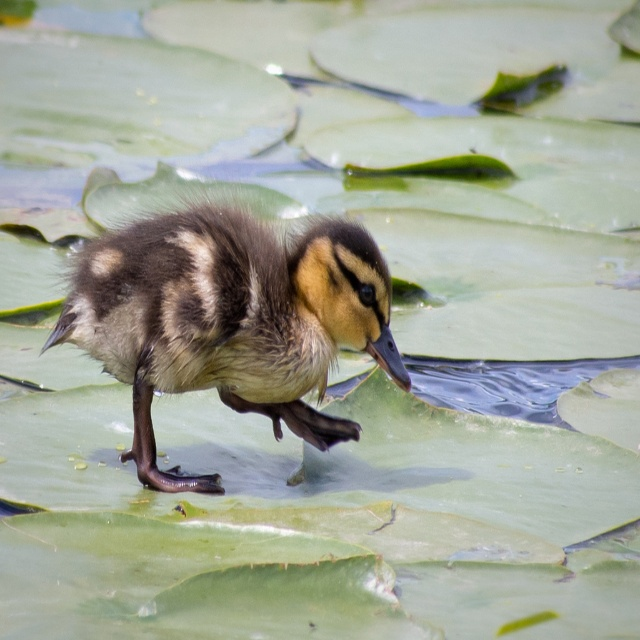Duck: (19, 171, 430, 490)
